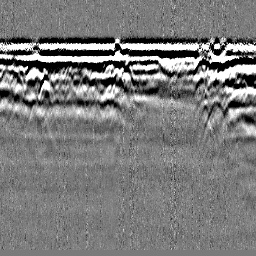cavity: (117, 61, 135, 86)
